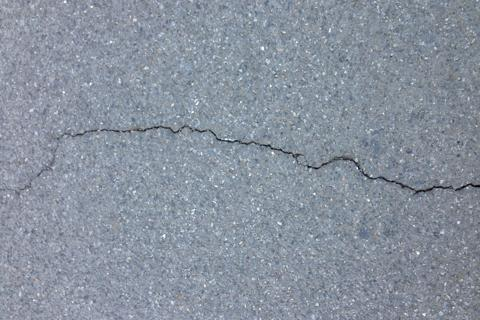crack: (4, 115, 480, 195)
